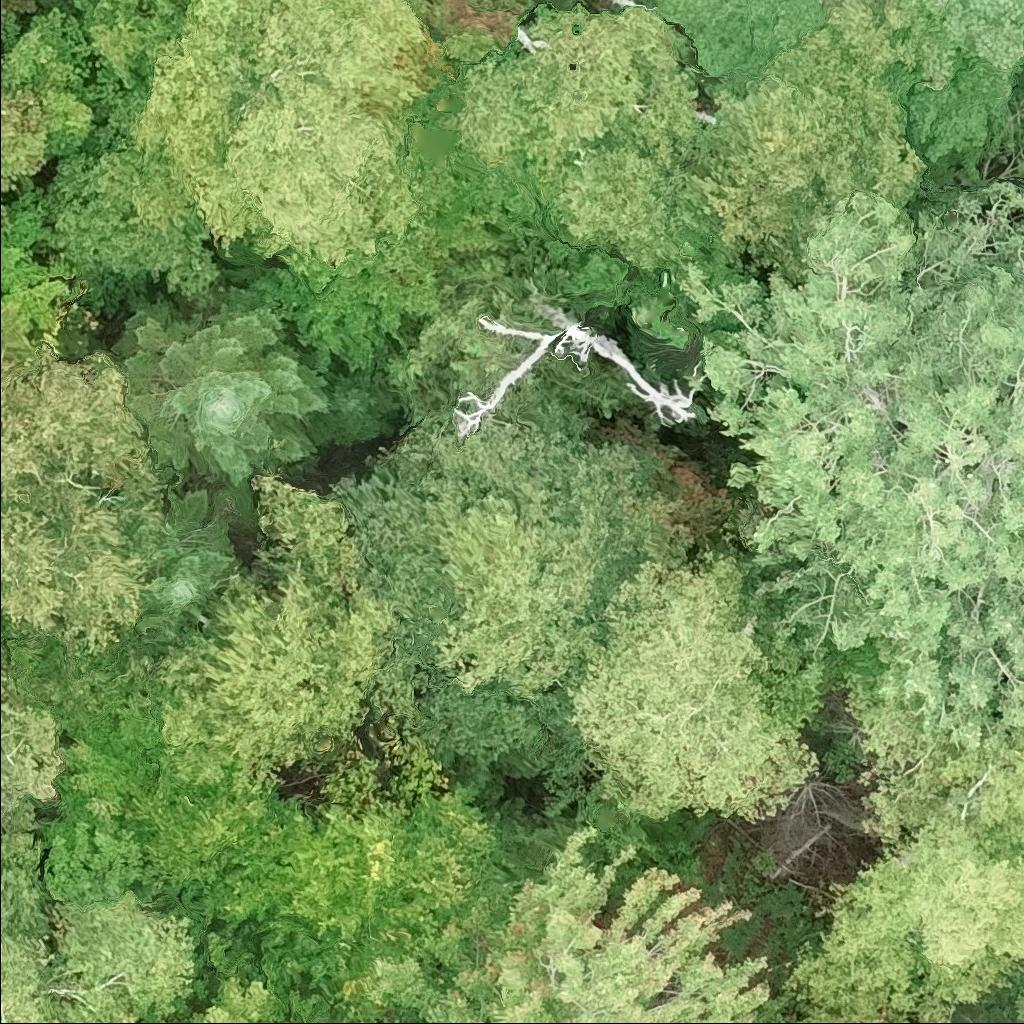crown: (679, 180, 1023, 753), (74, 0, 500, 334), (335, 374, 690, 772), (92, 474, 402, 893), (557, 533, 827, 825), (403, 8, 699, 274), (423, 825, 792, 1023), (0, 343, 167, 734), (676, 26, 927, 281), (780, 810, 1023, 1023), (108, 283, 333, 486), (32, 134, 229, 310), (836, 667, 1023, 851), (448, 305, 694, 439), (748, 0, 1023, 86), (43, 888, 207, 1023), (0, 6, 98, 230), (137, 481, 248, 661), (0, 644, 70, 834), (0, 827, 59, 1023), (0, 206, 72, 362), (644, 0, 763, 89), (312, 367, 396, 452), (180, 973, 293, 1023), (983, 982, 1023, 1023), (337, 1007, 393, 1023), (0, 0, 38, 18)
